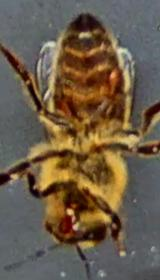varroa_mite: (98, 62, 128, 99)
